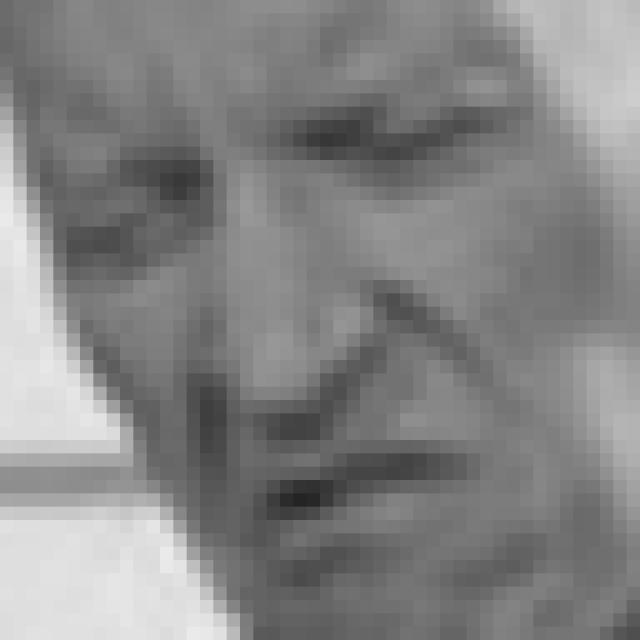disgust: (61, 56, 534, 578)
